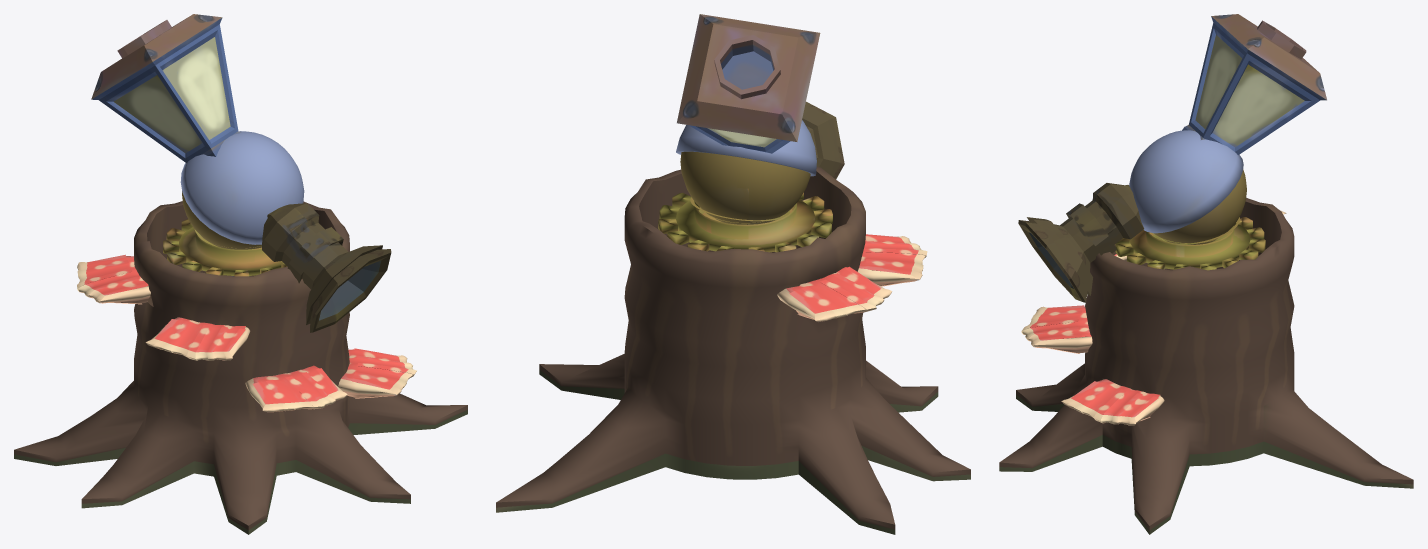
Rendered from canon_wip.glb.
3 views of the same model, side by side, from view 1: azimuth 30°, elevation 25°; view 2: azimuth 150°, elevation 25°; view 3: azimuth 270°, elevation 25° (orthographic). The views are drawn at different scales.
Parts seen in each view (by area): view 1: souche, reservoir, marche, demi_sphere, canon, engrenage, sphere; view 2: souche, reservoir, sphere, marche, engrenage, demi_sphere, canon; view 3: souche, reservoir, demi_sphere, canon, marche, engrenage, sphere.
Part boxes in pixels (x1,y1,x2,y2): souche: [14, 201, 467, 534]; reservoir: [91, 14, 241, 247]; marche: [77, 254, 416, 412]; demi_sphere: [180, 131, 304, 244]; canon: [262, 203, 391, 332]; engrenage: [163, 219, 286, 276]; sphere: [182, 191, 261, 249]; souche: [496, 166, 970, 534]; reservoir: [677, 14, 820, 221]; sphere: [680, 151, 810, 224]; marche: [777, 234, 927, 321]; engrenage: [658, 192, 832, 252]; demi_sphere: [676, 120, 816, 176]; canon: [802, 101, 844, 179]; souche: [999, 198, 1413, 534]; reservoir: [1155, 14, 1326, 244]; demi_sphere: [1129, 130, 1243, 233]; canon: [1018, 183, 1144, 302]; marche: [1021, 210, 1286, 425]; engrenage: [1115, 217, 1265, 270]; sphere: [1154, 169, 1246, 244].
Bounding box in the file's own units: 4.12 × 4.17 × 3.96.
3 materials, 3 textured.
